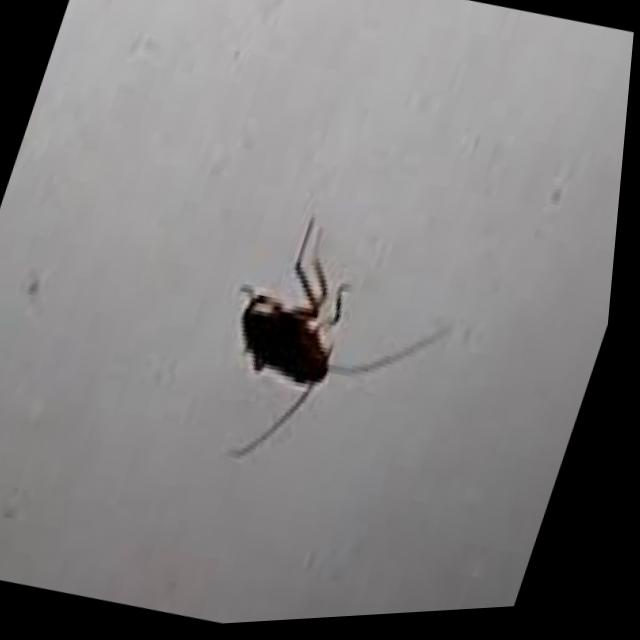Cockroach: (182, 185, 492, 517)
